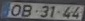1: (49, 4, 55, 18)
3: (39, 4, 49, 17)
4: (61, 5, 71, 19), (71, 6, 80, 19)
B: (20, 3, 33, 17)
O: (9, 3, 22, 16)
